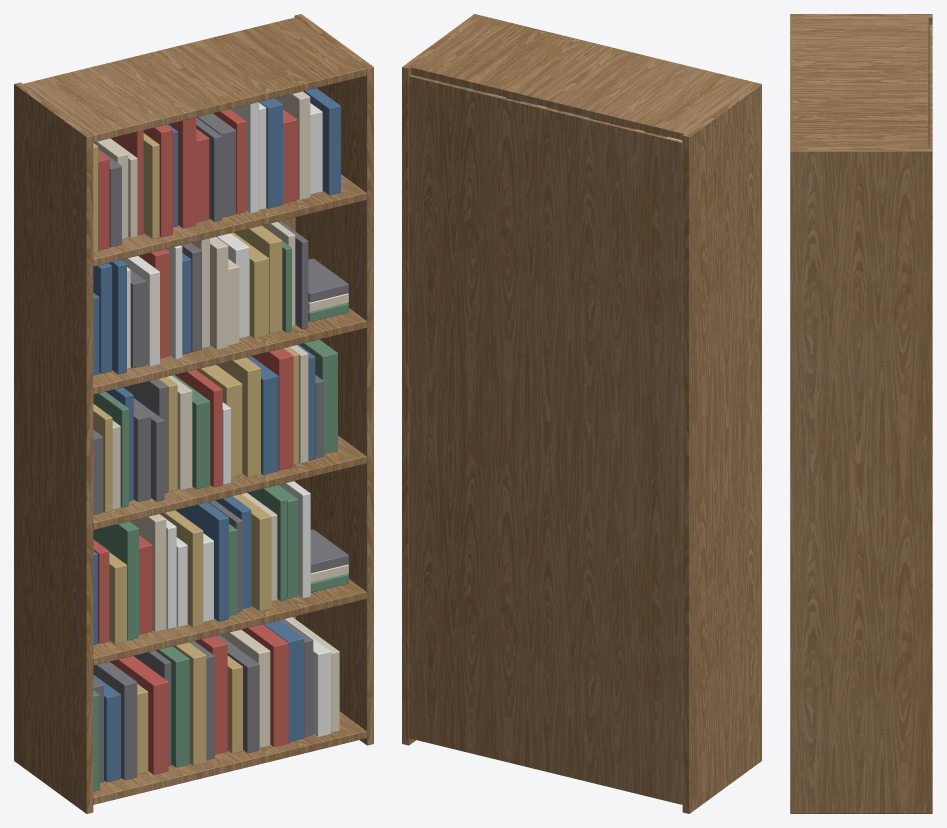
Rendered from bookcase.glb.
3 renders of one model, left to right at view 1: azimuth 30°, elevation 25°; view 2: azimuth 150°, elevation 25°; view 3: azimuth 270°, elevation 25°, orthographic. The views are drawn at different scales.
Visible parts, largest first — view 1: Cube, Cube.001, Cube.008, Cube.004, Cube.006, Cube.003, Cube.007, Cube.005, Cube.014, Cube.064, Cube.023, Cube.038 (+93 smaller); view 2: Cube.002, Cube, Cube.008, Cube.001; view 3: Cube.001, Cube.008, Cube, Cube.002.
Boxes of the visible parts, x1,y1,x2,y2 form: Cube: (14,82,93,813); Cube.001: (294,14,373,745); Cube.008: (23,17,366,142); Cube.004: (93,579,366,665); Cube.006: (93,308,366,394); Cube.003: (93,711,366,804); Cube.007: (93,174,366,266); Cube.005: (93,435,366,529); Cube.014: (110,656,168,774); Cube.064: (216,357,260,477); Cube.023: (241,624,288,746); Cube.038: (175,502,228,621); Cube.002: (409,75,682,804); Cube: (682,82,761,813); Cube.008: (411,15,754,140); Cube.001: (402,14,480,745); Cube.001: (790,148,932,813); Cube.008: (790,17,928,147); Cube: (790,14,932,147); Cube.002: (929,24,932,147).
Size of the model in its own units: 0.8 by 1.8 by 0.35.
8 materials, 1 textured.
